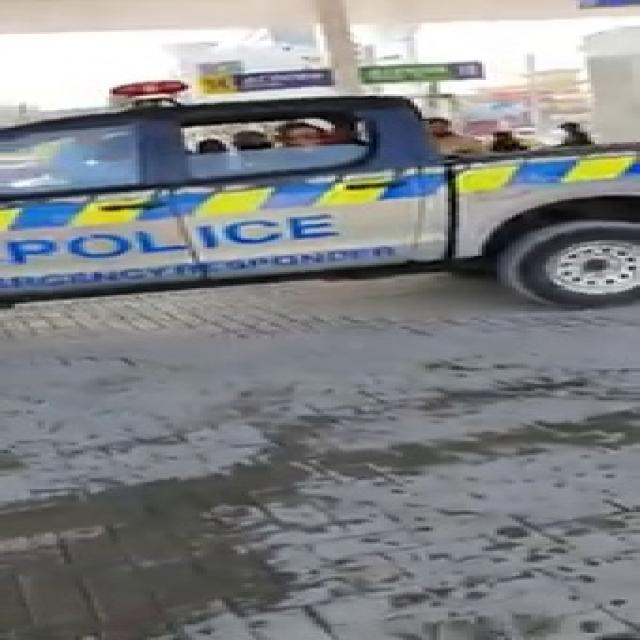police: (0, 34, 640, 314)
